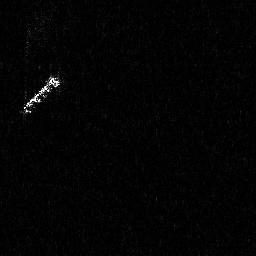ship: (19, 72, 63, 117)
